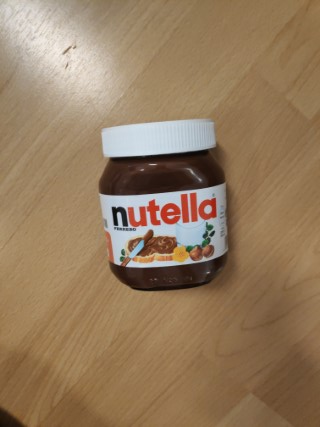nutella: (96, 116, 230, 292)
